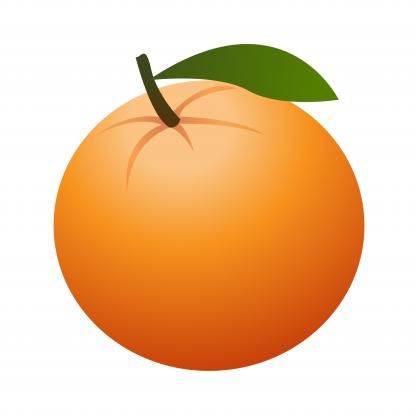orange: (57, 78, 376, 375)
